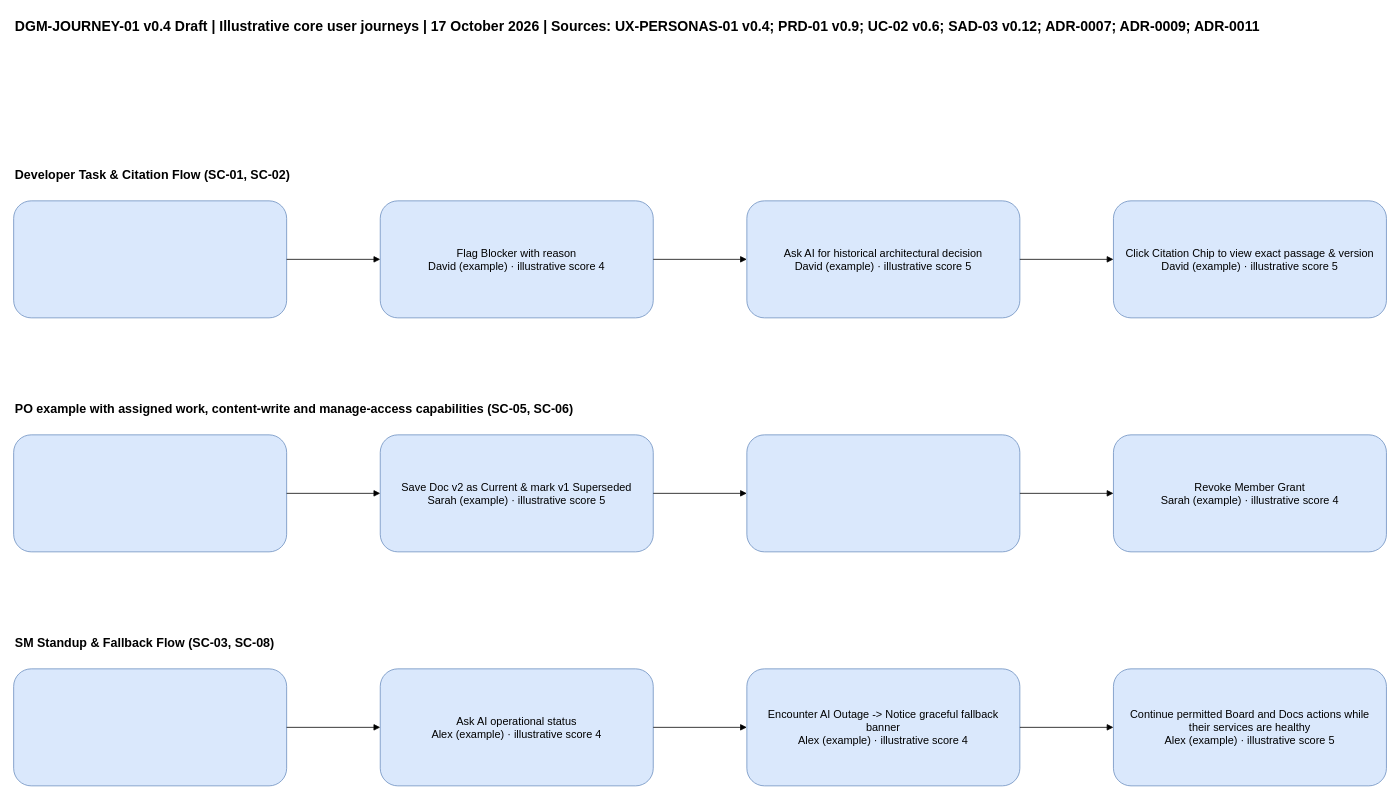
Some shapes in this 1400 by 800 pixel diagram are drawn without their labels. Here are the shapes that lost their labels. From the top down, the centre of each, then its label:
the point at 150,259: Open Board & Select In-Progress Task David (example) · illustrative score 5
the point at 150,493: Create Story in Backlog Sarah (example) · illustrative score 5
the point at 883,493: Set Doc classification to Restricted Sarah (example) · illustrative score 5
the point at 150,727: Filter Board by Blocked items Alex (example) · illustrative score 5
